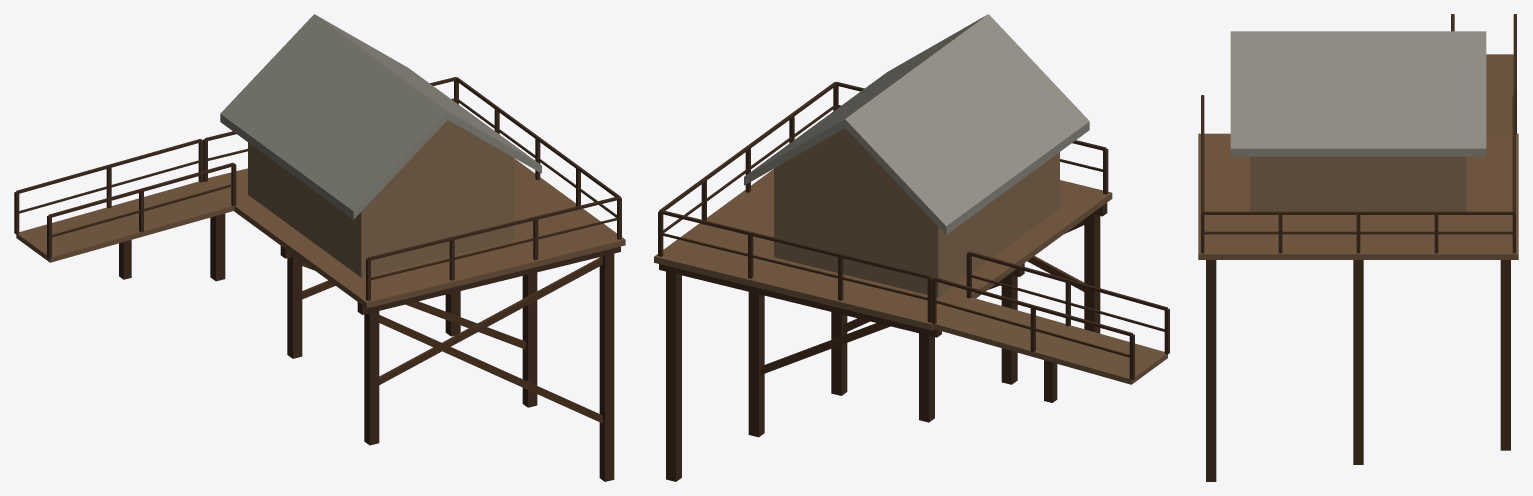
Rendered from SM_FishersCove_Hut8.fbx.
3 views of the same model, side by side, from view 1: azimuth 30°, elevation 25°; view 2: azimuth 150°, elevation 25°; view 3: azimuth 270°, elevation 25° (orthographic). The views are drawn at different scales.
Visible parts, largest first — view 1: SM_FishersCove_Hut8; view 2: SM_FishersCove_Hut8; view 3: SM_FishersCove_Hut8.
Boxes of the visible parts, x1,y1,x2,y2 form: SM_FishersCove_Hut8: (14, 14, 625, 481); SM_FishersCove_Hut8: (654, 14, 1169, 481); SM_FishersCove_Hut8: (1198, 14, 1518, 481).
Bounding box in the file's own units: 11.34 × 9.65 × 7.4.
